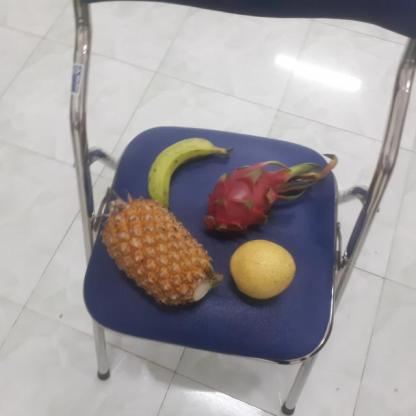banana: (139, 136, 224, 210)
pear: (226, 242, 298, 302)
pineapple: (100, 196, 215, 306)
pitaya: (202, 163, 297, 239)
